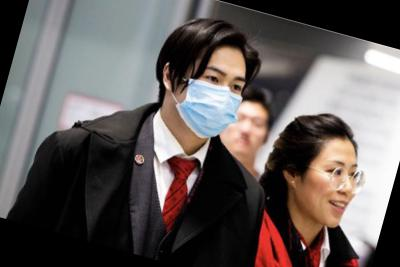with_mask: (168, 59, 251, 148)
without_mask: (290, 148, 366, 233), (219, 97, 275, 163)
